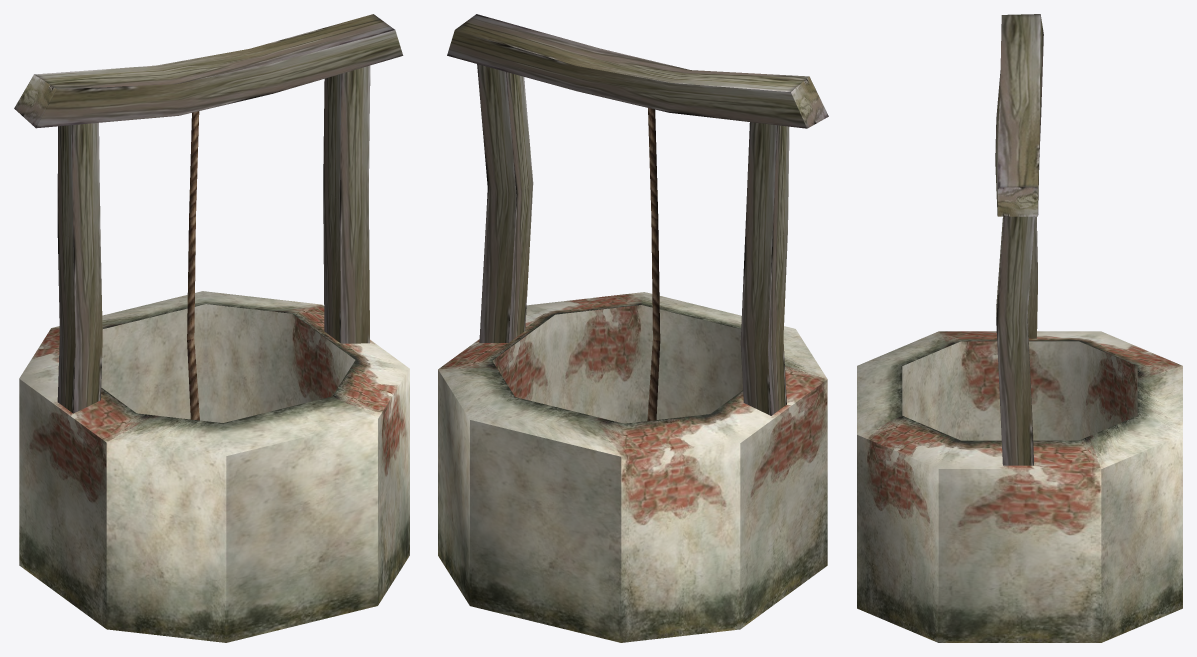
Rendered from well_Bstucco.fbx.
The picture shows the model from 3 angles, left to right: view 1: azimuth 30°, elevation 25°; view 2: azimuth 150°, elevation 25°; view 3: azimuth 270°, elevation 25°; orthographic projection. The views are drawn at different scales.
Parts seen in each view (by area): view 1: WellStuccoMesh, well_support, rope; view 2: WellStuccoMesh, well_support, rope; view 3: WellStuccoMesh, well_support.
Boxes of the visible parts, bbox=[...] form: WellStuccoMesh: bbox=[19, 291, 409, 642]; well_support: bbox=[14, 14, 403, 413]; rope: bbox=[187, 111, 199, 420]; WellStuccoMesh: bbox=[438, 292, 827, 642]; well_support: bbox=[447, 14, 828, 415]; rope: bbox=[647, 108, 660, 420]; WellStuccoMesh: bbox=[857, 331, 1182, 642]; well_support: bbox=[995, 14, 1043, 465].
Size of the model in its own units: 775 by 1106 by 645.
1 material, 1 textured.
